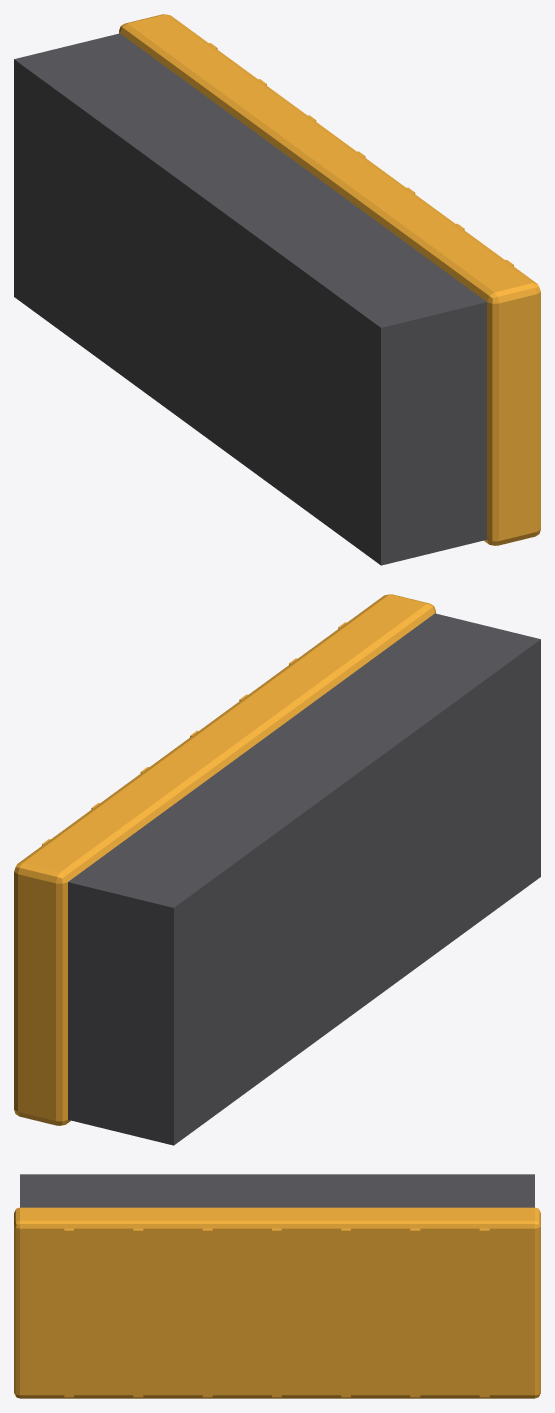
Rendered from corner-lamp.glb.
The picture shows the model from 3 angles, top to bottom: view 1: azimuth 30°, elevation 25°; view 2: azimuth 150°, elevation 25°; view 3: azimuth 270°, elevation 25°; orthographic projection. The views are drawn at different scales.
Parts seen in each view (by area): view 1: housing, lens; view 2: housing, lens; view 3: lens, housing, rib.001, rib.002, rib.005, rib.006, rib, rib.003, rib.004.
Boxes of the visible parts, x1,y1,x2,y2 form: housing: (14,33,486,565); lens: (119,14,540,545); housing: (68,613,540,1145); lens: (14,594,435,1125); lens: (14,1207,540,1398); housing: (20,1174,534,1207); rib.001: (133,1228,143,1397); rib.002: (202,1228,212,1397); rib.005: (410,1228,420,1397); rib.006: (479,1228,489,1397); rib: (64,1228,73,1397); rib.003: (272,1228,281,1397); rib.004: (341,1228,350,1397).
Bounding box in the file's own units: 2.17 × 3.2 × 8.6.
